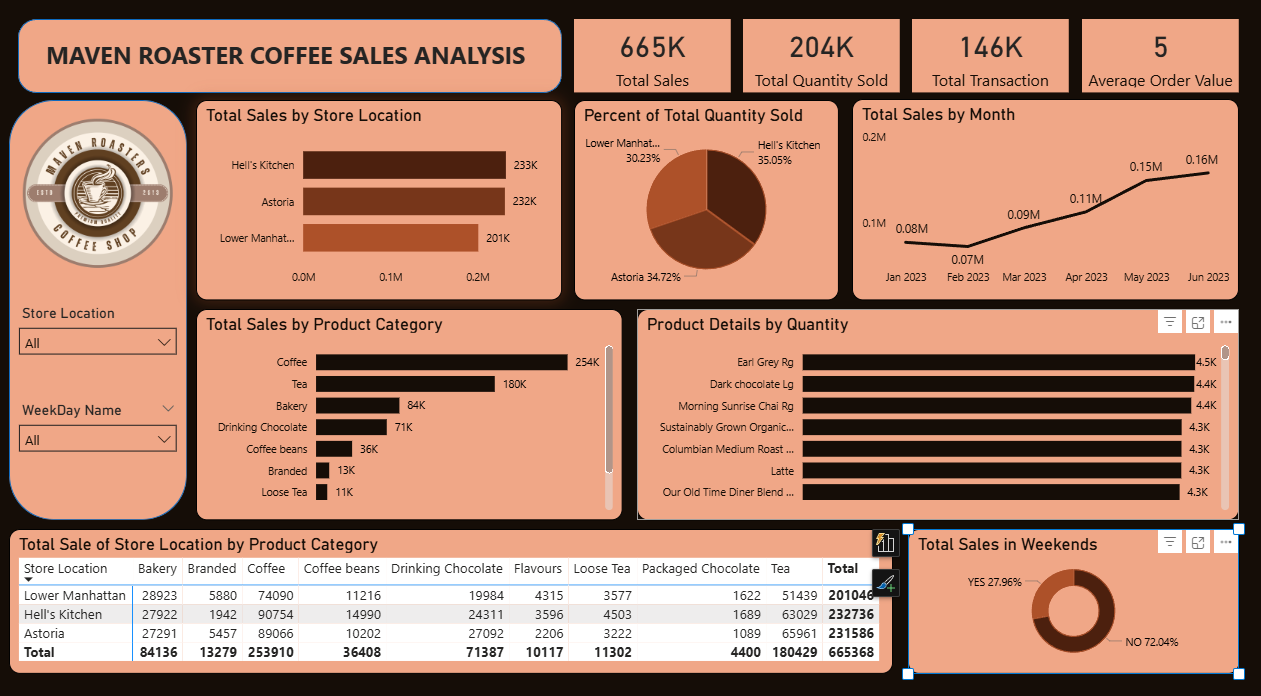

Layout of this report page (visuals, bound fields, positions):
{"tool":"powerbi","page":{"name":"Page 1","canvas":[1280,720],"ordinal":0},"visuals":[{"type":"shape","box":[23.2,25.2,548.3,74.6],"z":0},{"type":"card","fields":{"Values":["FACT SALES.TOTAL SALES"]},"box":[583.1,25.6,158,74.3],"z":1000},{"type":"card","fields":{"Values":["FACT SALES.TOTAL QUANTITY SOLD"]},"box":[753.8,25.6,158,74.3],"z":2000},{"type":"card","fields":{"Values":["FACT SALES.Total Transaction"]},"box":[924.6,25.6,158,74.3],"z":3000},{"type":"card","fields":{"Values":["FACT SALES.Average Order Value"]},"box":[1095.3,25.6,158,74.3],"z":4000},{"type":"lineChart","title":"Total  Sales by Month ","fields":{"Category":["DIM DATE.Month Year"],"Y":["Sum(FACT SALES.Total  Sales)"]},"box":[863.7,105.8,390,202.6],"z":5000},{"type":"shape","box":[14.1,106.8,179.4,423.3],"z":6000},{"type":"barChart","title":" Total  Sales by Store Location","fields":{"Category":["DIM STORE.Store Location"],"Y":["Sum(FACT SALES.Total  Sales)"]},"box":[202.9,106.8,369,202],"z":7000},{"type":"pieChart","title":"Percent of Total Quantity Sold","fields":{"Category":["DIM STORE.Store Location"],"Y":["Sum(FACT SALES.Quantity)"]},"box":[583.6,106.8,267.1,201.6],"z":8000},{"type":"barChart","title":"Total  Sales by Product Category","fields":{"Y":["Sum(FACT SALES.Total  Sales)"],"Category":["DIM PRODUCT.Product Category"]},"box":[202.6,317.5,430.4,212.7],"z":9000},{"type":"clusteredBarChart","title":"Product Details by Quantity ","fields":{"Category":["DIM PRODUCT.Product Details"],"Y":["Sum(FACT SALES.Quantity)"]},"box":[647.1,317.5,606.7,212.7],"z":10000},{"type":"textbox","box":[46.4,39.3,513,60.5],"z":11000},{"type":"image","box":[3,106.8,200.6,188.5],"z":12000},{"type":"slicer","fields":{"Values":["DIM STORE.Store Location"]},"box":[14.1,308.4,179.4,65.5],"z":13000},{"type":"slicer","fields":{"Values":["DIM DATE.WeekDay Name"]},"box":[14.1,406.2,179.4,64.5],"z":14000},{"type":"pivotTable","title":"Total Sale of Store Location by Product Category","fields":{"Rows":["DIM STORE.Store Location"],"Columns":["DIM PRODUCT.Product Category"],"Values":["Sum(FACT SALES.Total  Sales)"]},"box":[14.1,539.2,891,146.1],"z":15000},{"type":"donutChart","title":"Total Sales in Weekends","fields":{"Y":["FACT SALES.Total Sales"],"Category":["DIM DATE.Is Weekday"]},"box":[920.2,539.2,333.6,146.1],"z":16000}]}

Visuals, with their boxes in screenshot pixels (x1, y1, x2, y2), scaled from the page's 1280x720 canvas onto the 1261x696 screenshot:
shape: left=23, top=24, right=563, bottom=96
card - FACT SALES.TOTAL SALES: left=574, top=25, right=730, bottom=97
card - FACT SALES.TOTAL QUANTITY SOLD: left=743, top=25, right=898, bottom=97
card - FACT SALES.Total Transaction: left=911, top=25, right=1067, bottom=97
card - FACT SALES.Average Order Value: left=1079, top=25, right=1235, bottom=97
"Total  Sales by Month " lineChart: left=851, top=102, right=1235, bottom=298
shape: left=14, top=103, right=191, bottom=512
" Total  Sales by Store Location" barChart: left=200, top=103, right=563, bottom=299
"Percent of Total Quantity Sold" pieChart: left=575, top=103, right=838, bottom=298
"Total  Sales by Product Category" barChart: left=200, top=307, right=624, bottom=513
"Product Details by Quantity " clusteredBarChart: left=637, top=307, right=1235, bottom=513
textbox: left=46, top=38, right=551, bottom=96
image: left=3, top=103, right=201, bottom=285
slicer - DIM STORE.Store Location: left=14, top=298, right=191, bottom=361
slicer - DIM DATE.WeekDay Name: left=14, top=393, right=191, bottom=455
"Total Sale of Store Location by Product Category" pivotTable: left=14, top=521, right=892, bottom=662
"Total Sales in Weekends" donutChart: left=907, top=521, right=1235, bottom=662
